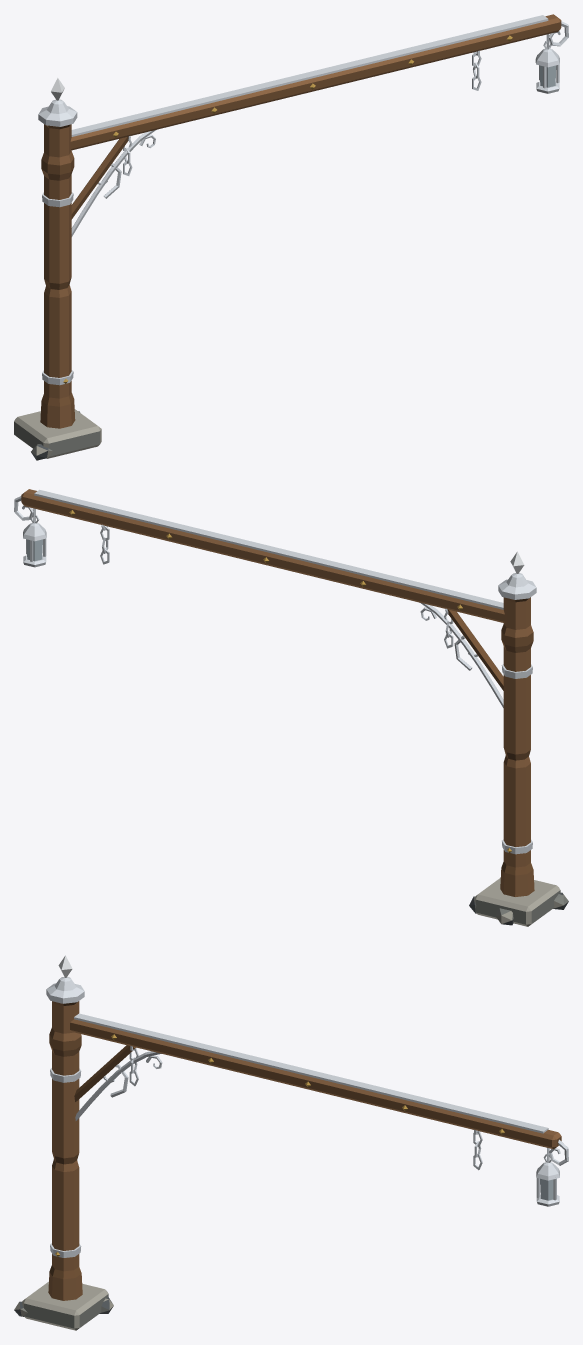
Rendered from SignHangingFrame.obj.
3 views of the same model, one above another, from view 1: azimuth 30°, elevation 25°; view 2: azimuth 150°, elevation 25°; view 3: azimuth 330°, elevation 25° (orthographic).
Size of the model in its own units: 12.25 by 7.8 by 1.51.
